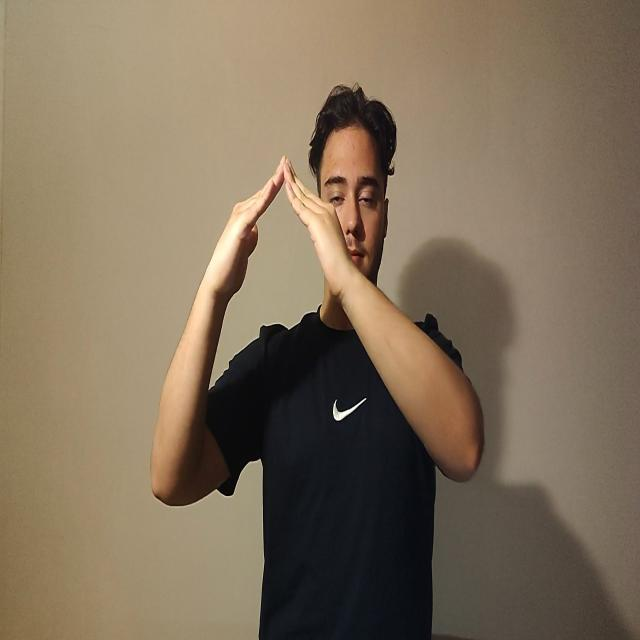house: (212, 158, 347, 300)
